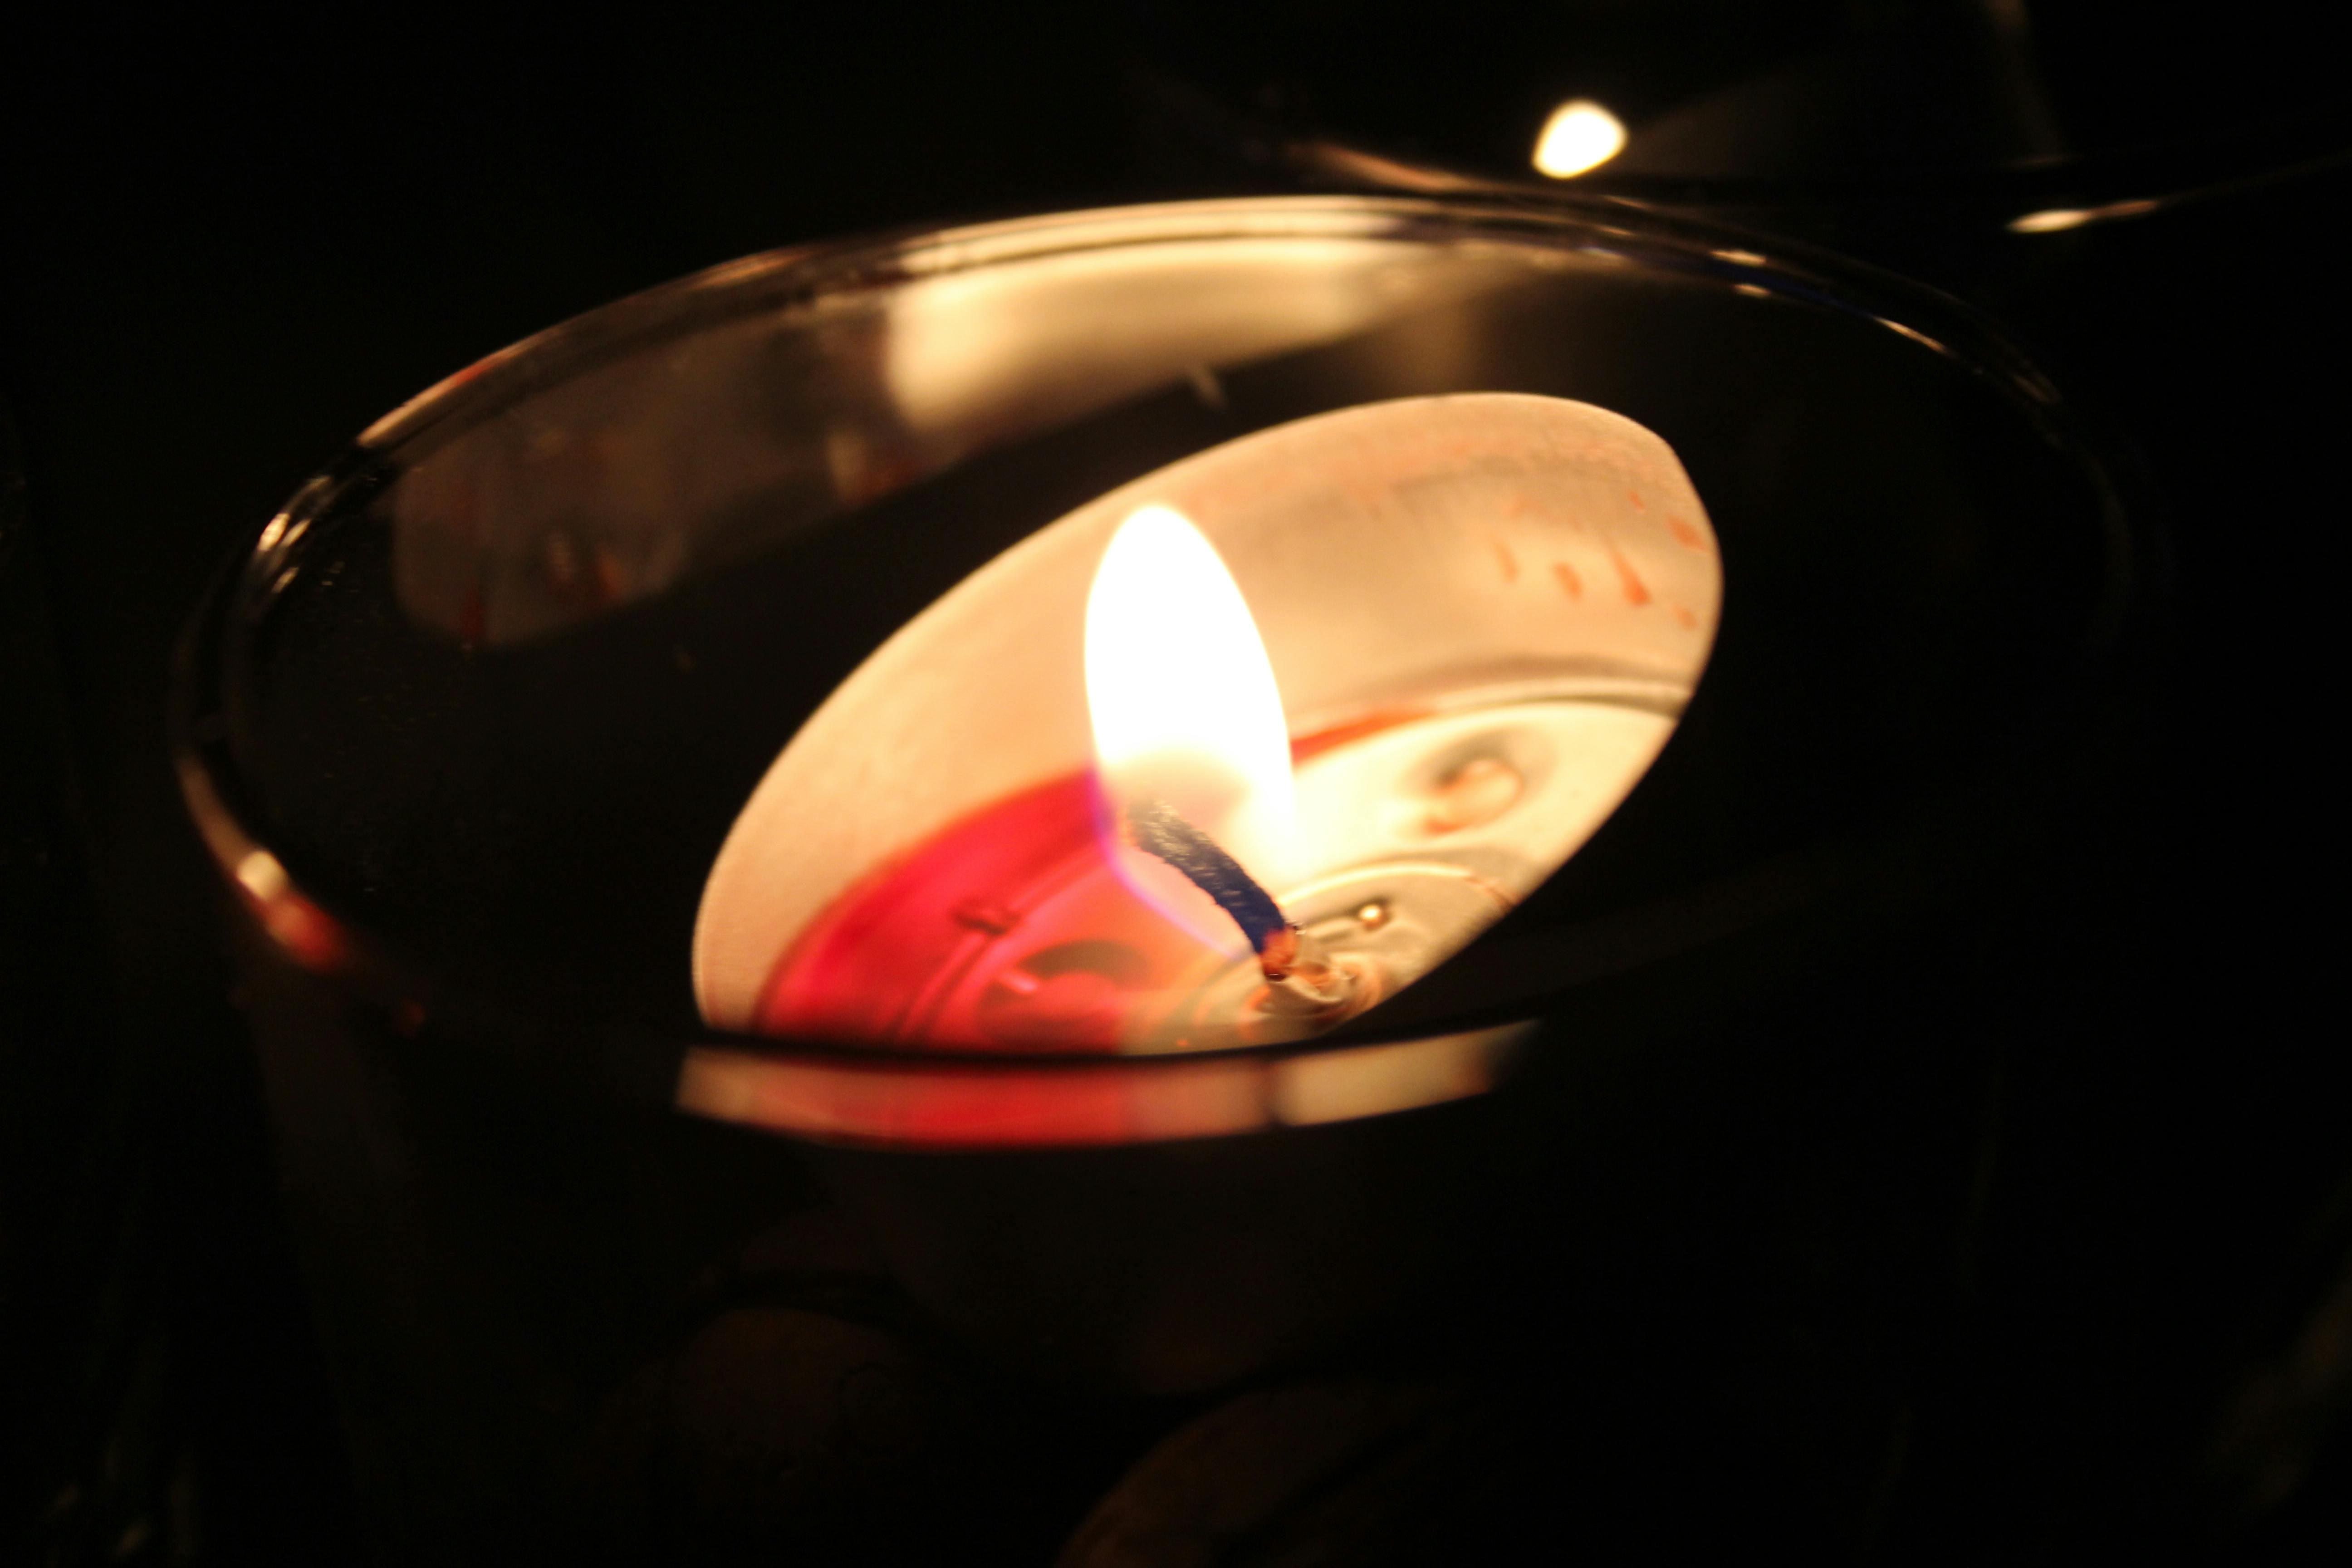Fire: (1062, 481, 1330, 950)
